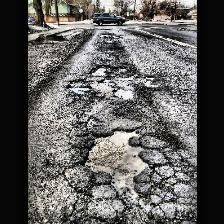pothole: (80, 126, 152, 204), (65, 80, 90, 94), (89, 64, 112, 76), (112, 88, 134, 100), (95, 76, 113, 84), (144, 74, 154, 80)
